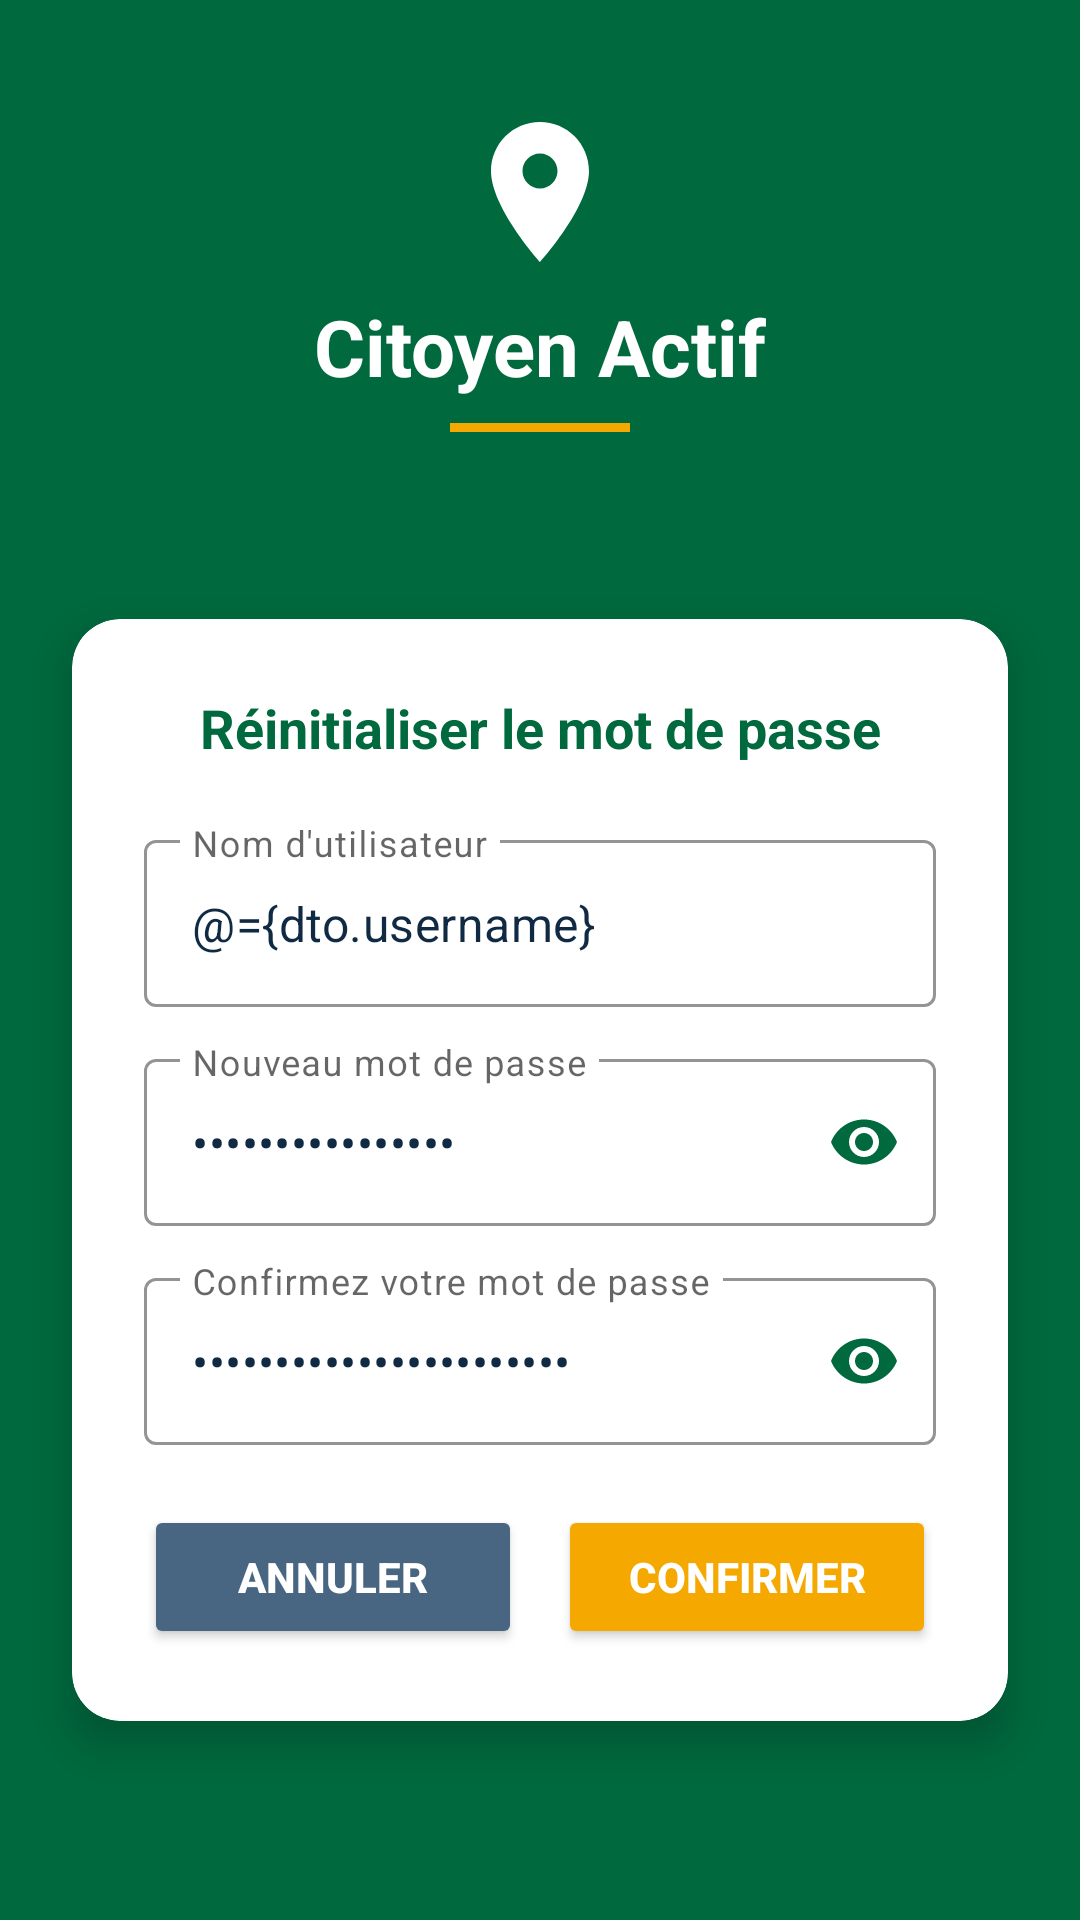

Locate icon controls on the screen. Image size 1080px x 1920px, boxes as (x1, y1, x2, y2).
Icône localisation: (491, 122, 589, 262)
